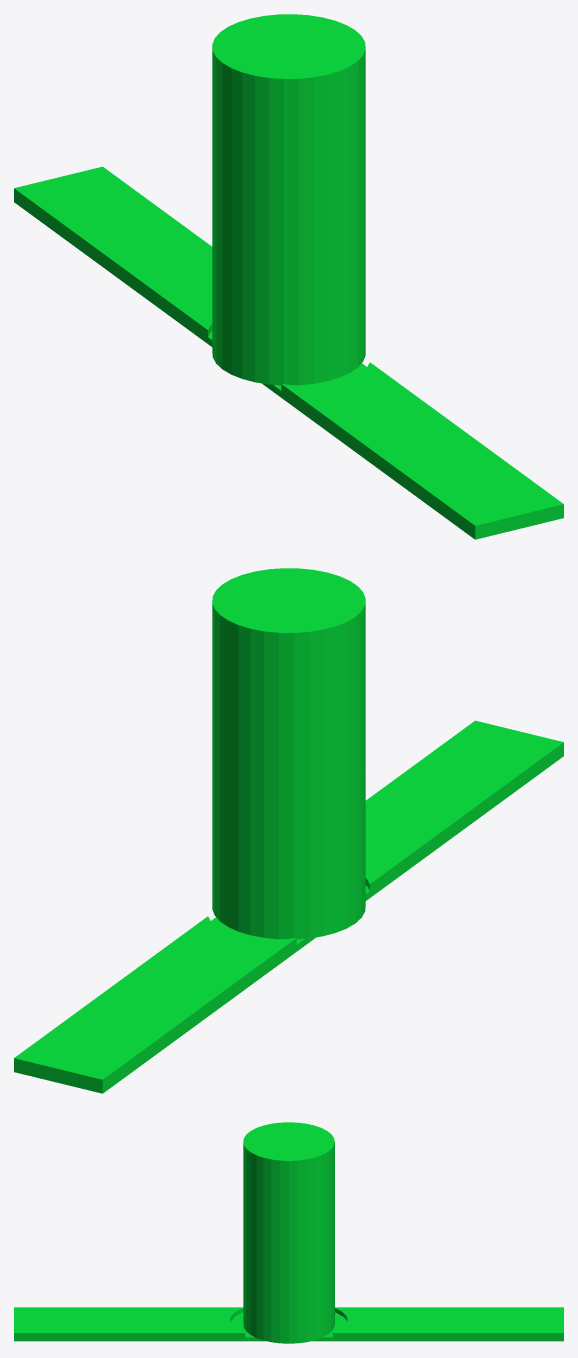
3 renders of one model, top to bottom at view 1: azimuth 30°, elevation 25°; view 2: azimuth 150°, elevation 25°; view 3: azimuth 270°, elevation 25°, orthographic. The views are drawn at different scales.
Parts seen in each view (by area): view 1: tmp_export_Cylinder.011; view 2: tmp_export_Cylinder.011; view 3: tmp_export_Cylinder.011.
Part boxes in pixels (bbox=[...]): tmp_export_Cylinder.011: bbox=[14, 14, 563, 539]; tmp_export_Cylinder.011: bbox=[14, 568, 563, 1093]; tmp_export_Cylinder.011: bbox=[14, 1122, 563, 1343].
Size of the model in its own units: 2 by 12 by 4.5.
